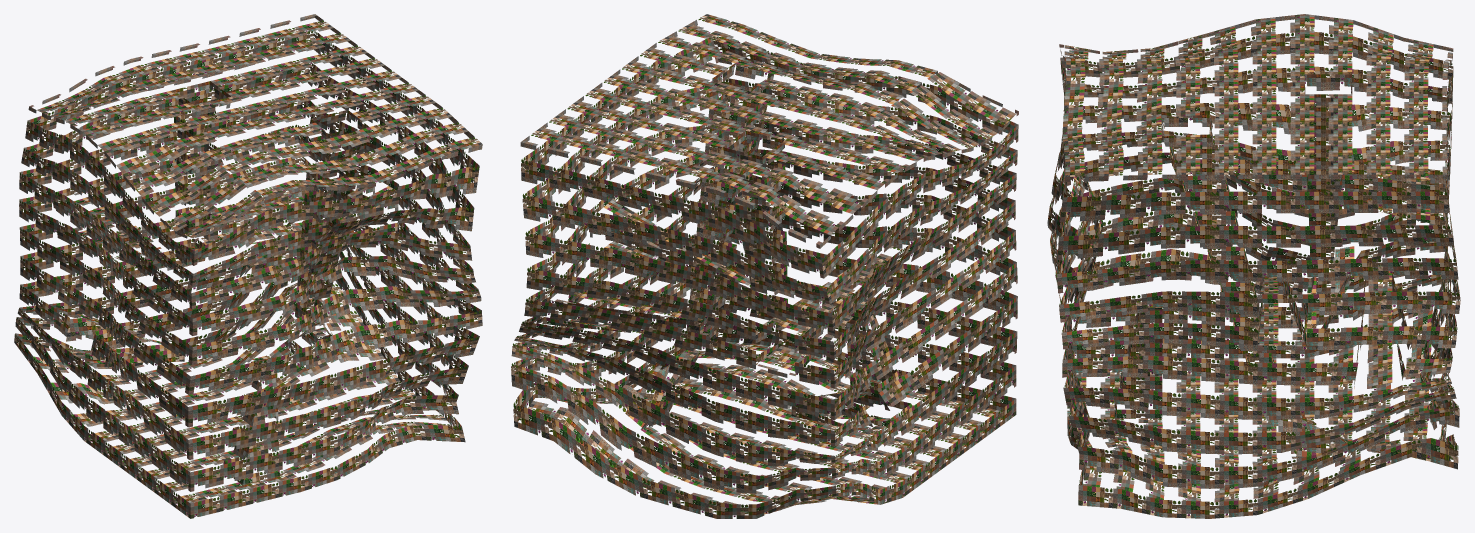
Rendered from Spikey.fbx.
3 renders of one model, left to right at view 1: azimuth 30°, elevation 25°; view 2: azimuth 150°, elevation 25°; view 3: azimuth 270°, elevation 25°, orthographic. The views are drawn at different scales.
Visible parts, largest first — view 1: Spikey; view 2: Spikey; view 3: Spikey.
Boxes of the visible parts, x1,y1,x2,y2 form: Spikey: (14,14,482,518); Spikey: (511,14,1018,518); Spikey: (1047,14,1460,518).
Bounding box in the file's own units: 10.77 × 10 × 10.87.
